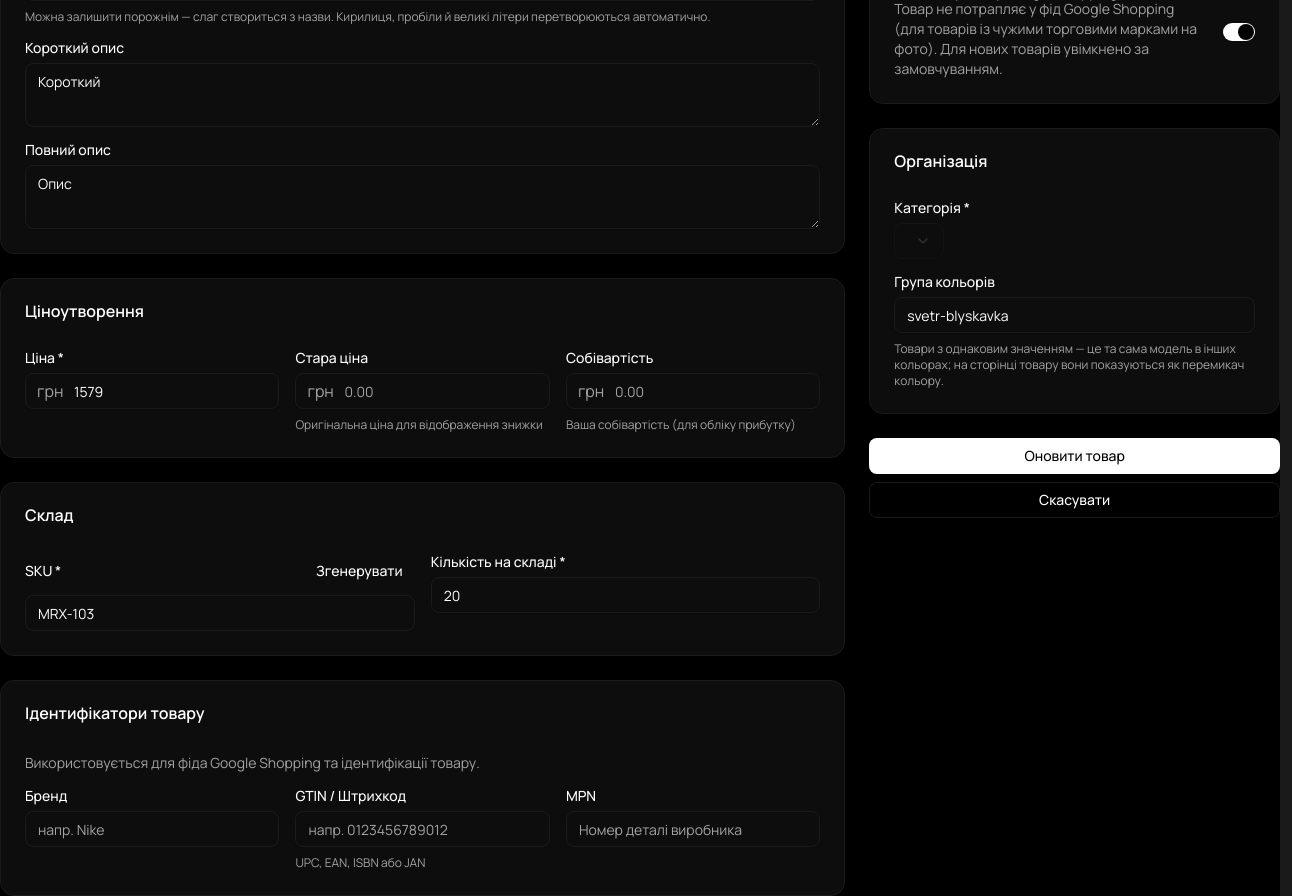
Test: ProductForm — client checks match the server's › «GTIN / Штрихкод» = 123456789012345 is stopped in the form with «Штрихкод — не довше 14 символів»
The image size is (1292, 896).
(page scrolled)
In the field labelled "GTIN / Штрихкод": (423,829) 295,811 -> 550,847, type "123456789012345"
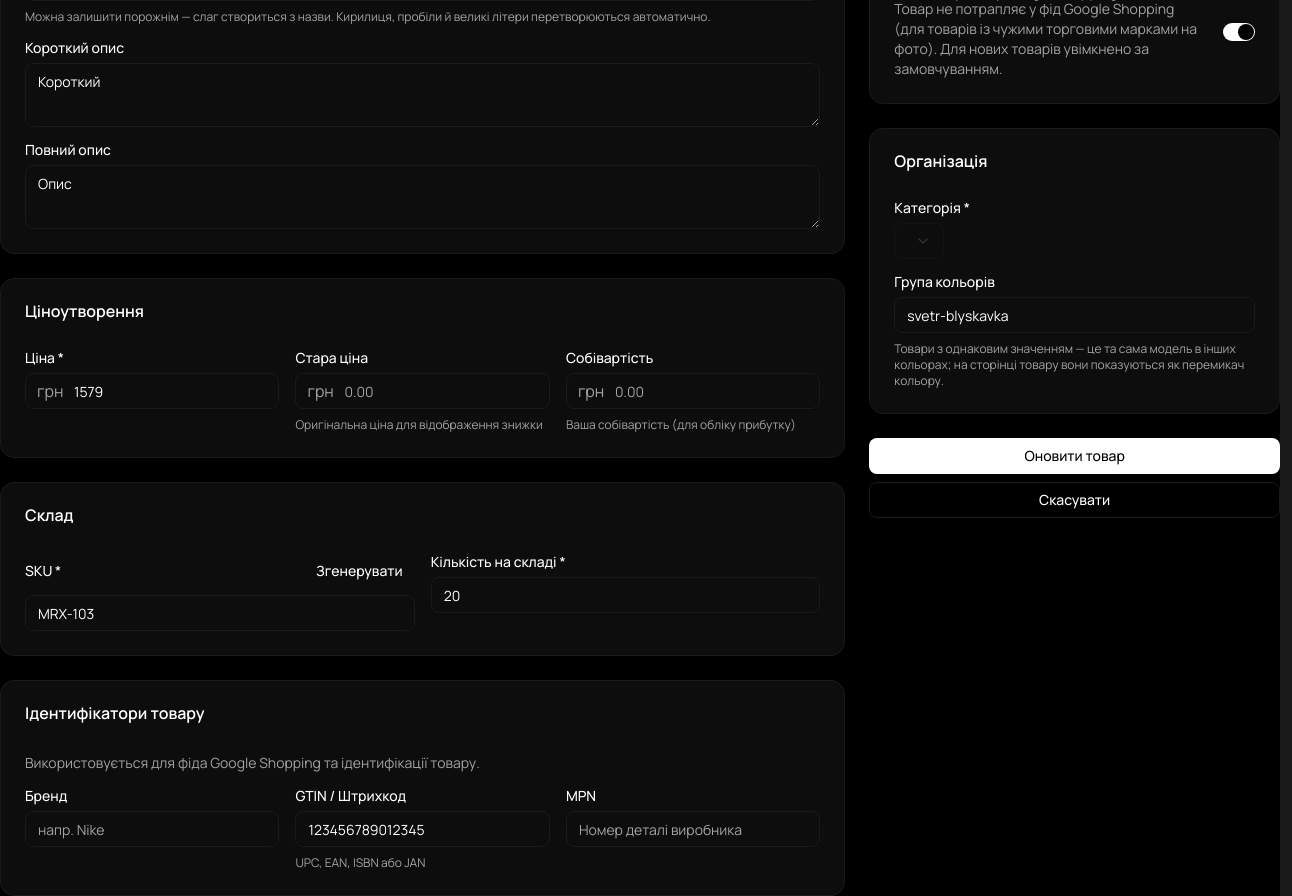
Click the button "Оновити товар": (1075,456) 869,438 -> 1280,474
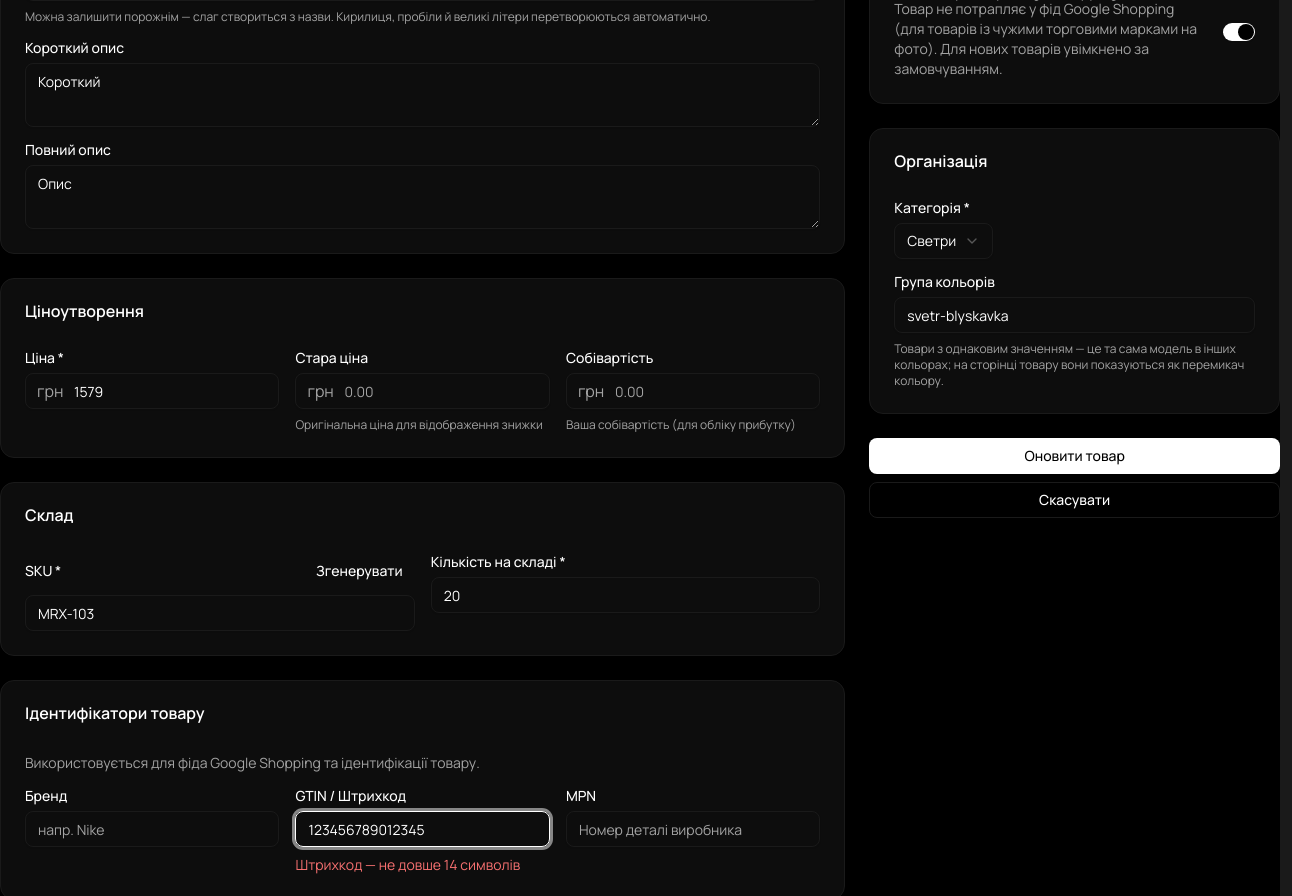
Expected: the text "Штрихкод — не довше 14 символів" is shown, 295,855 -> 550,875
